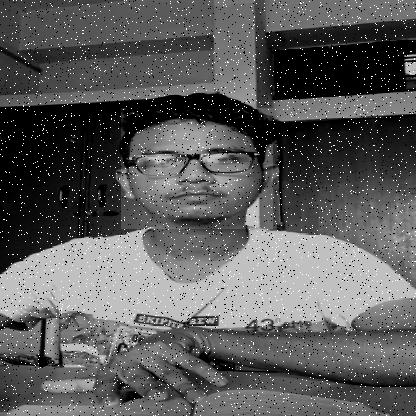Normal: (121, 108, 273, 229)
